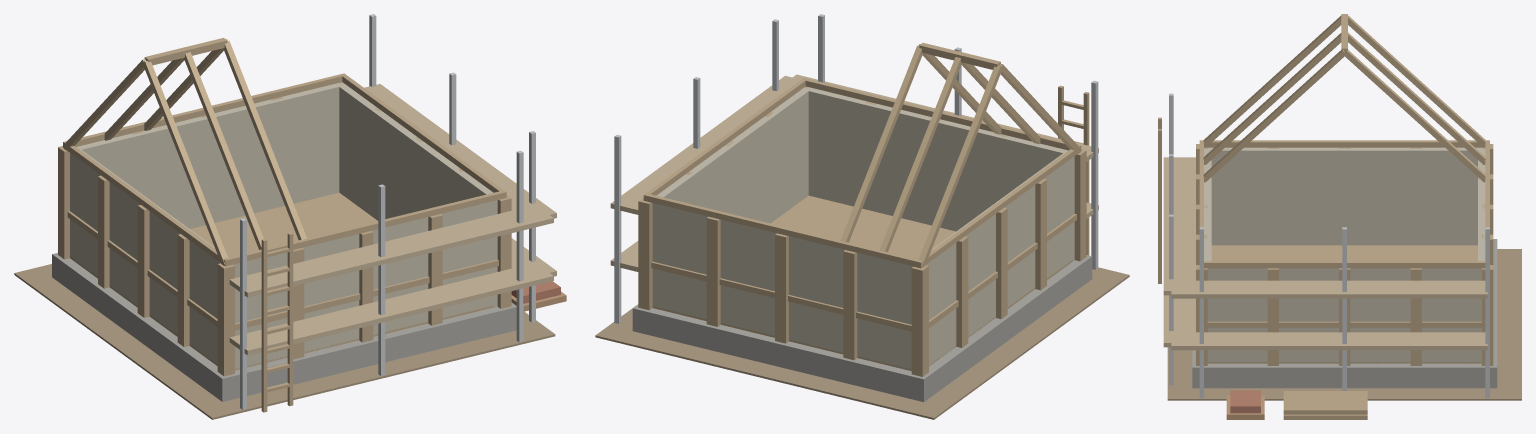
File: sheep_pen_site_8.glb
3 views of the same model, side by side, from view 1: azimuth 30°, elevation 25°; view 2: azimuth 150°, elevation 25°; view 3: azimuth 270°, elevation 25° (orthographic). The views are drawn at different scales.
Visible parts, largest first — view 1: body; view 2: body; view 3: body.
Part boxes in pixels (left/top/right/bottom): body: left=14, top=14, right=566, bottom=419; body: left=595, top=14, right=1129, bottom=419; body: left=1158, top=14, right=1521, bottom=419.
Bounding box in the file's own units: 2.1 × 1.46 × 1.91.
